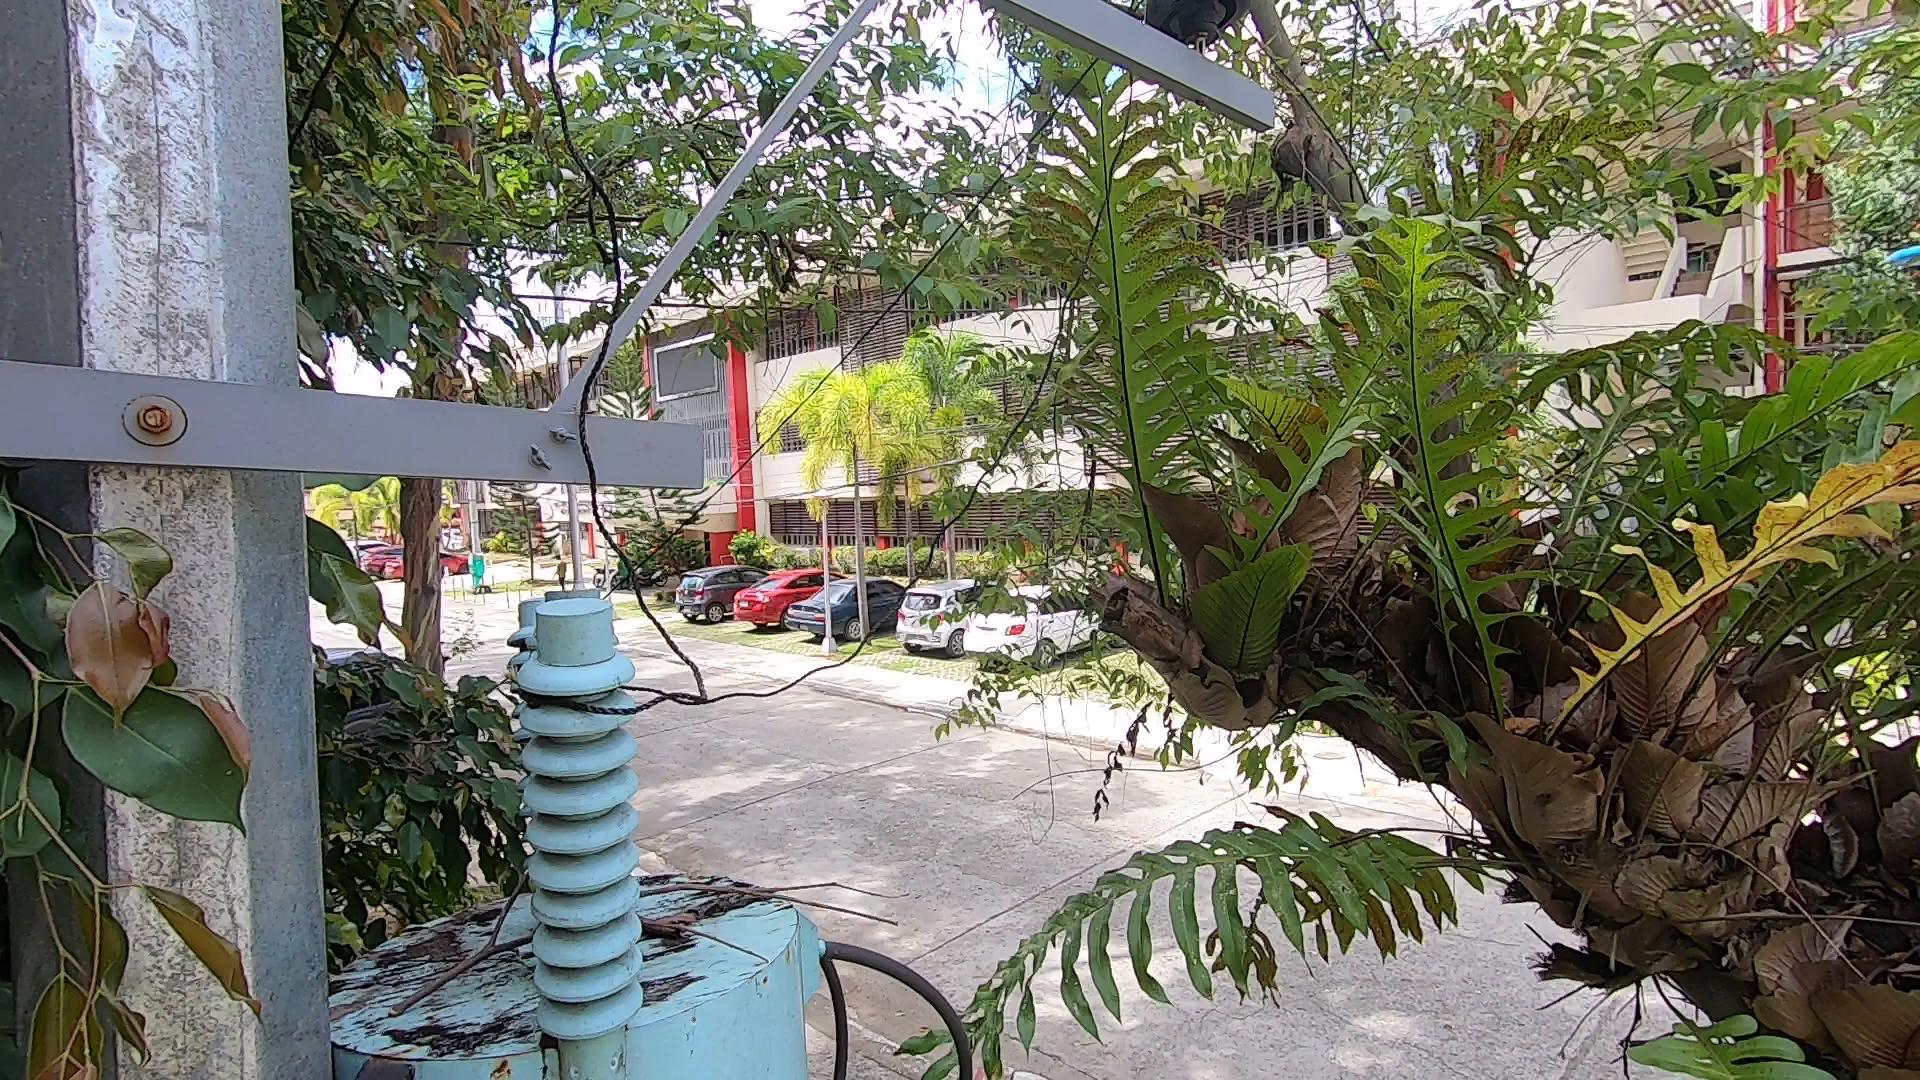branch with leaves: (3, 496, 270, 1073)
leaf: (633, 872, 709, 959), (372, 919, 477, 973)
tree branch: (349, 800, 911, 986)
